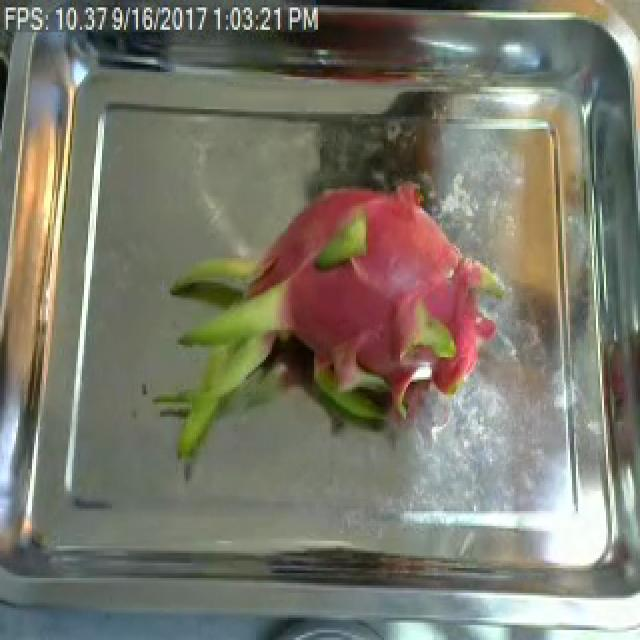fruit: (138, 156, 494, 479)
